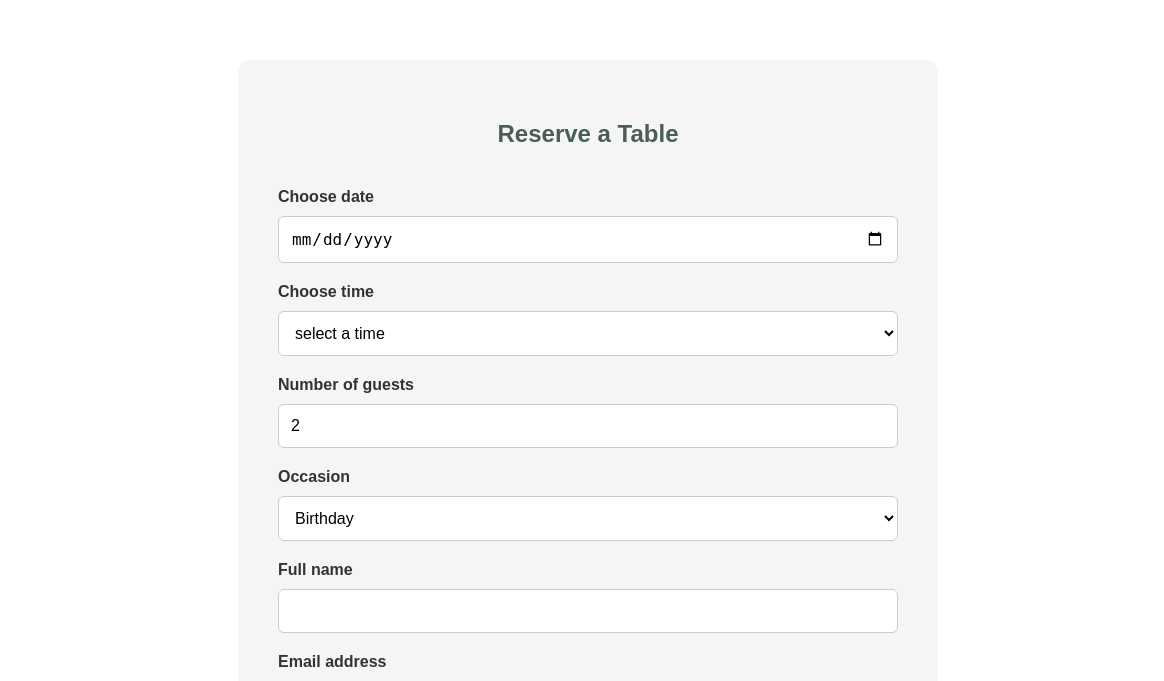
Test: submits the booking form and shows confirmation
This screenshot has width=1164, height=681.
In the date field labelled "Choose date": (588, 239) [278, 216, 898, 263], type "2026-09-22"
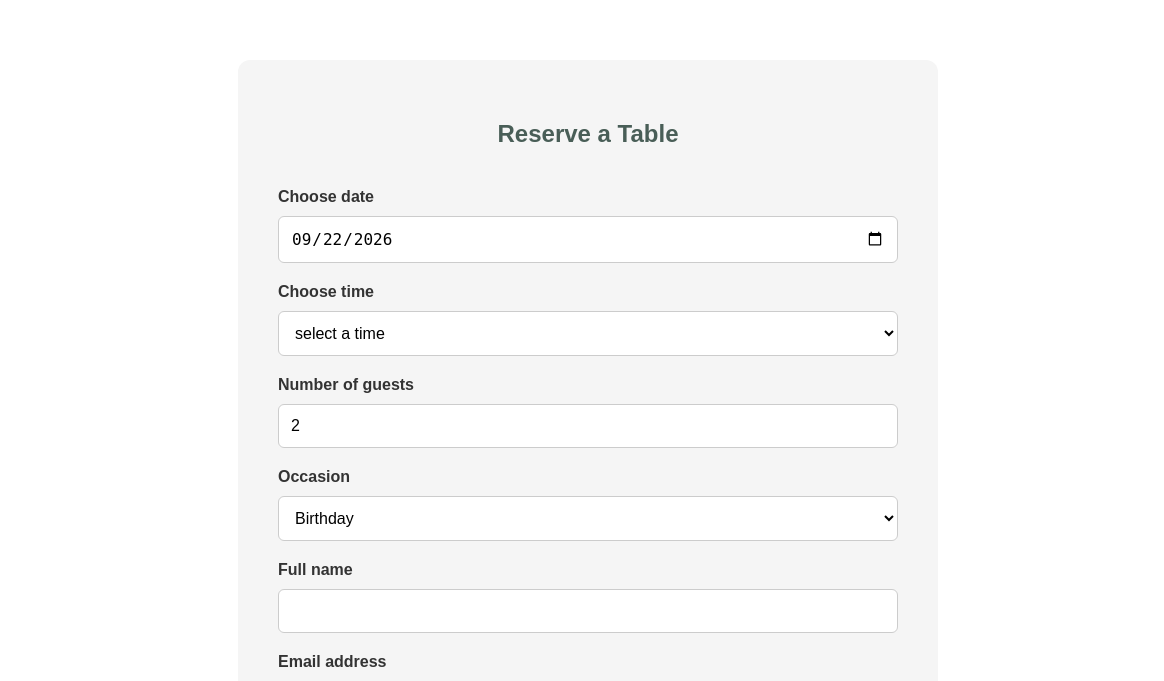
Select "18:00" in the dropdown labelled "Choose time": (588, 333) [278, 311, 898, 356]
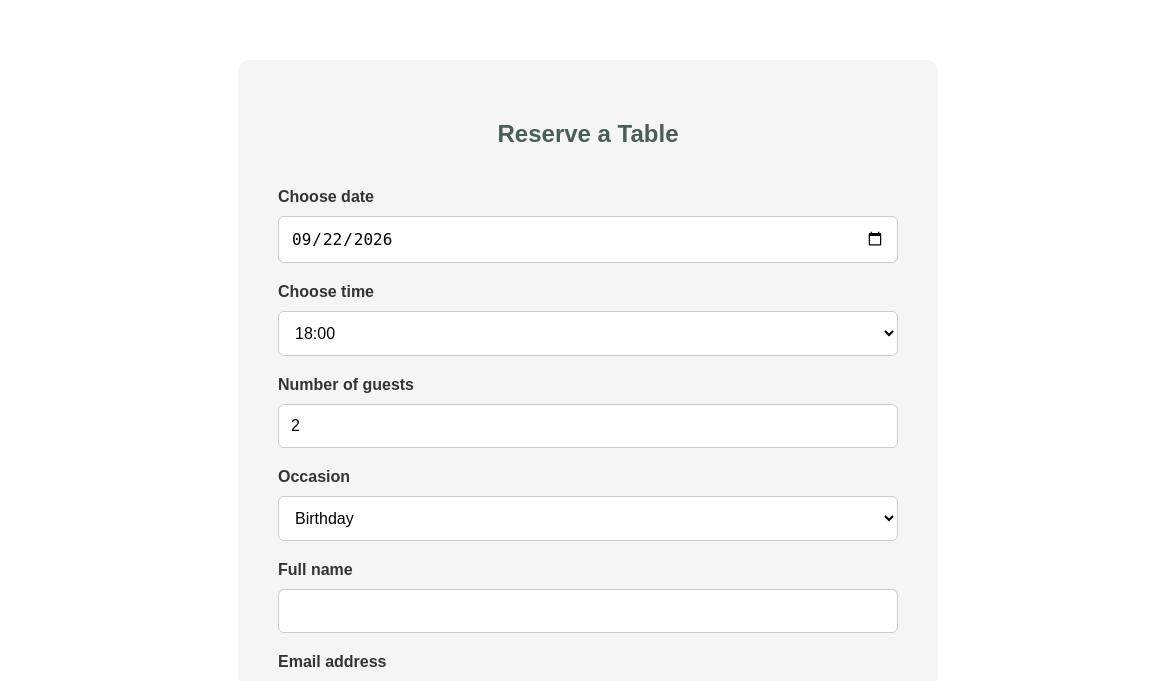
In the field labelled "Full name": (588, 611) [278, 589, 898, 633], type "Veena Yenigalla"
(page scrolled)
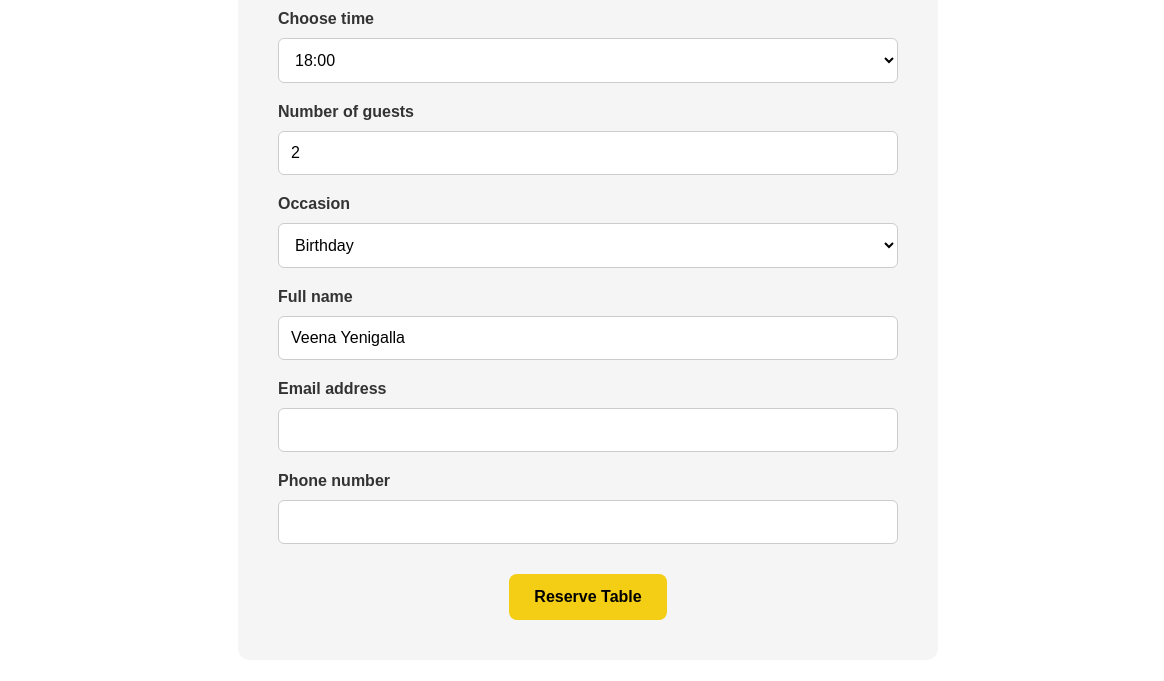
In the field labelled "Email address": (588, 430) [278, 408, 898, 452], type "veena@example.com"
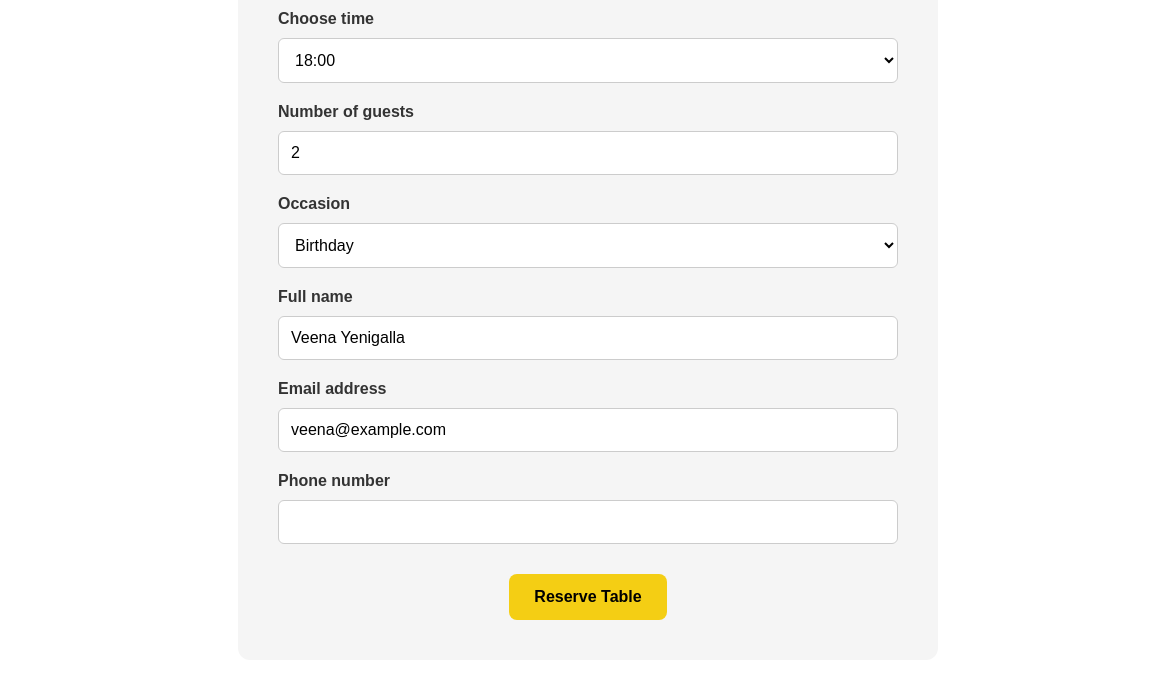
In the field labelled "Phone number": (588, 522) [278, 500, 898, 544], type "9876543210"
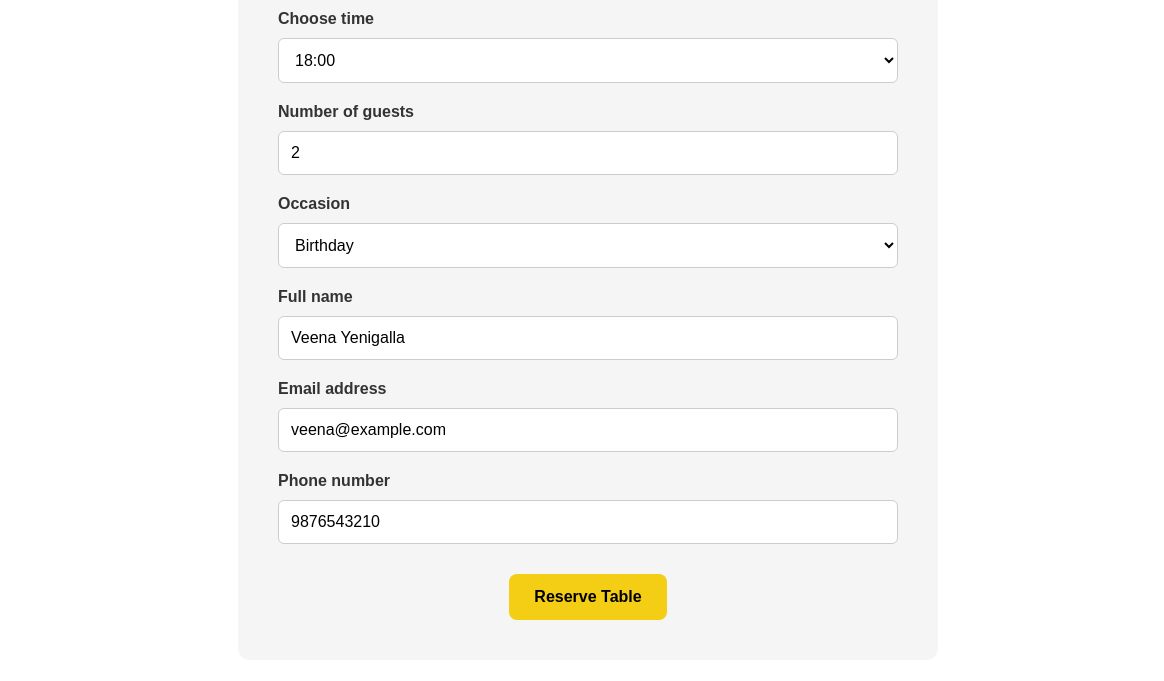
Click the button "Reserve Table": (588, 597) [509, 574, 667, 620]
(page scrolled)
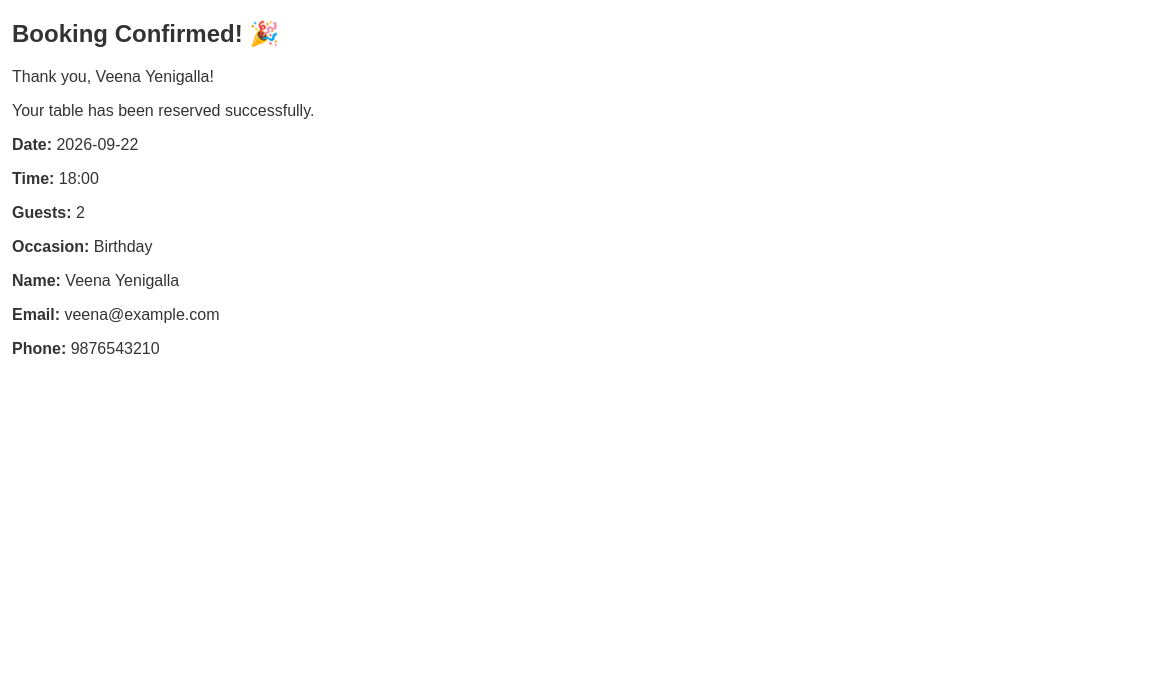
Now the heading "Booking Confirmed! 🎉" is shown, box [12, 20, 279, 47]
Now the text "Thank you, Veena Yenigalla!" is shown, box [12, 68, 214, 85]
